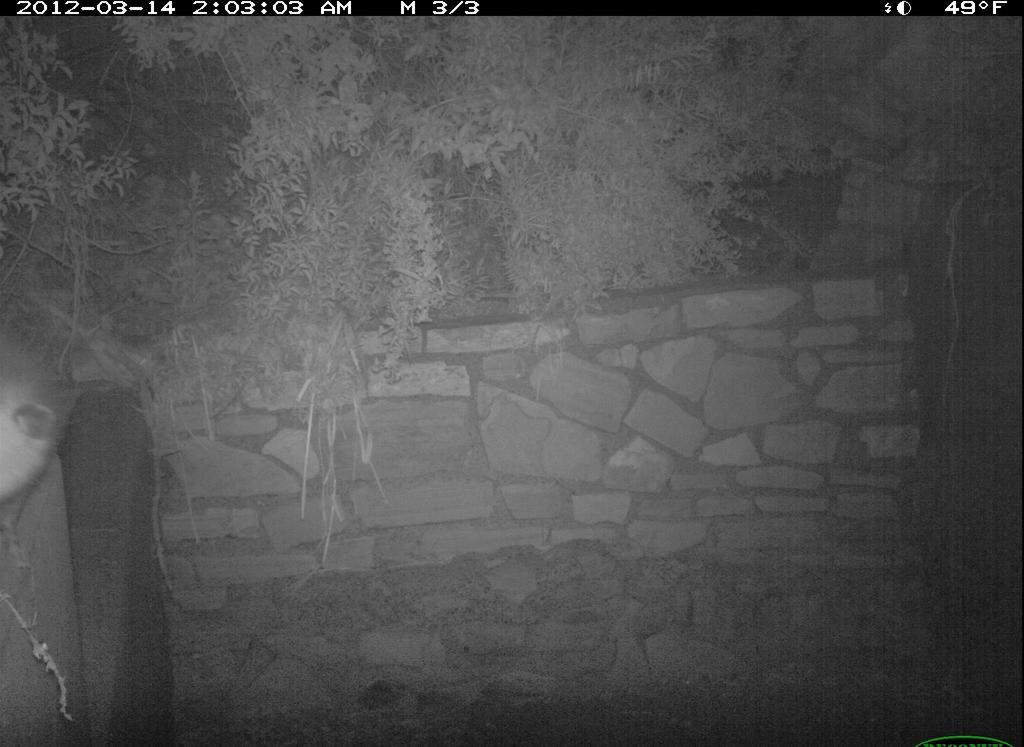opossum: (1, 305, 81, 502)
